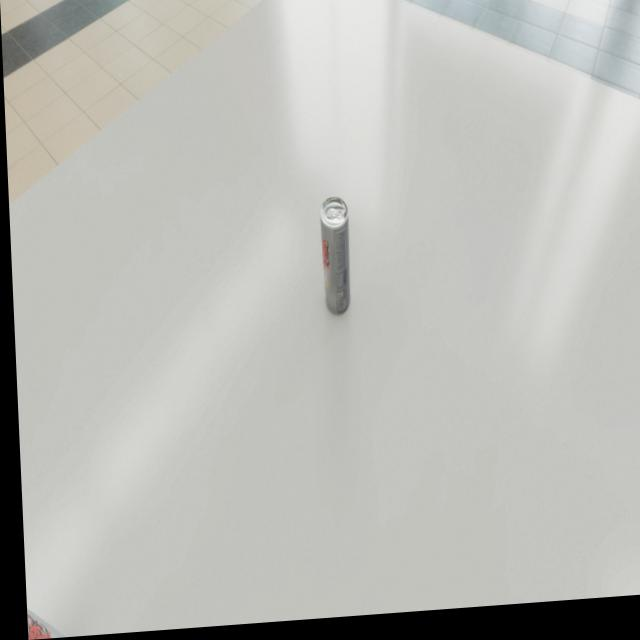Rita_zero_sugar: (317, 201, 350, 321)
